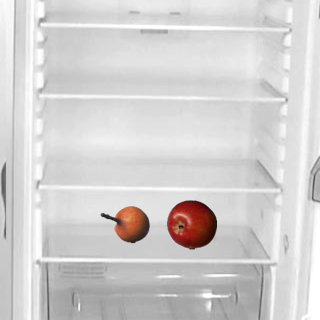Apple Braeburn: (166, 199, 216, 249)
Granadilla: (99, 199, 149, 249)
